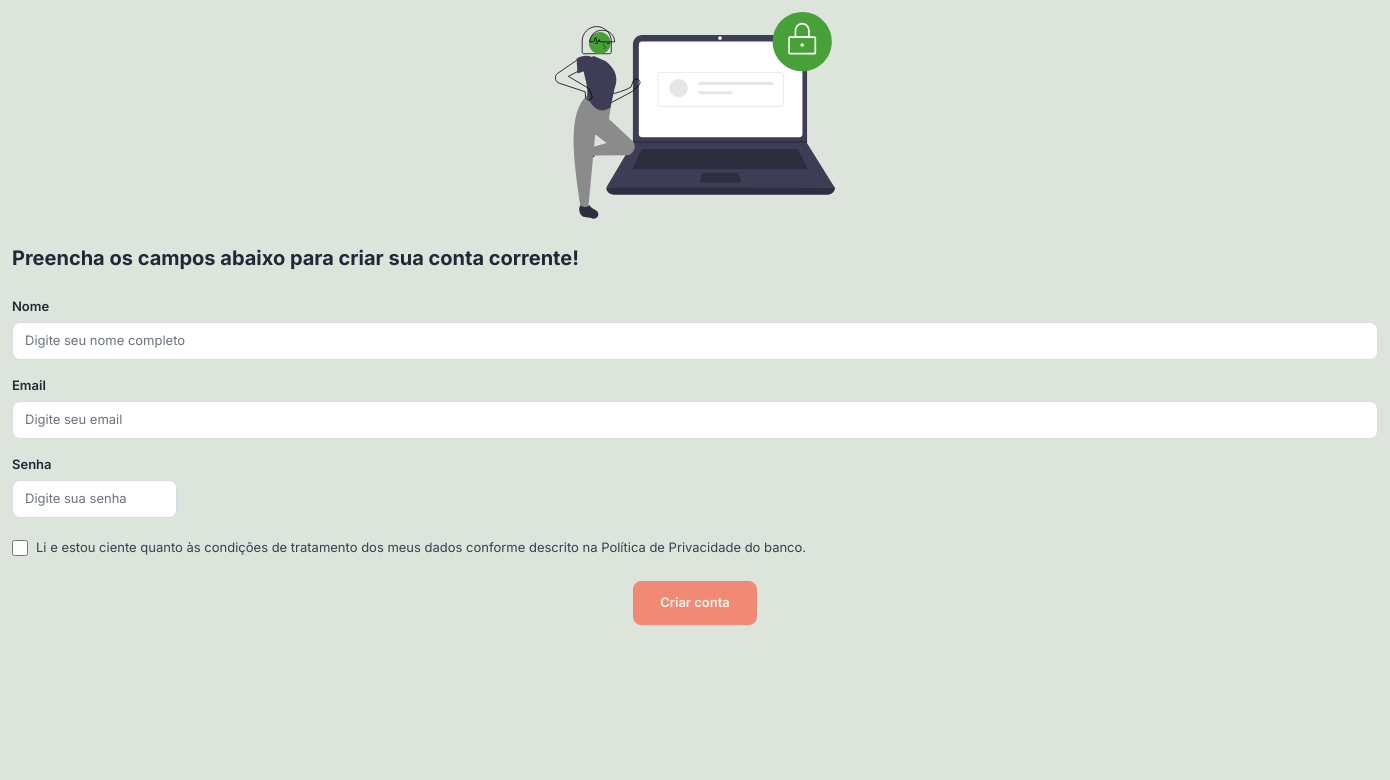
Test: RegisterForm › fecha alerta manualmente no botao x
Type "Maria Silva" into the field labelled "Nome" at [695, 341], box left=12, top=322, right=1378, bottom=360
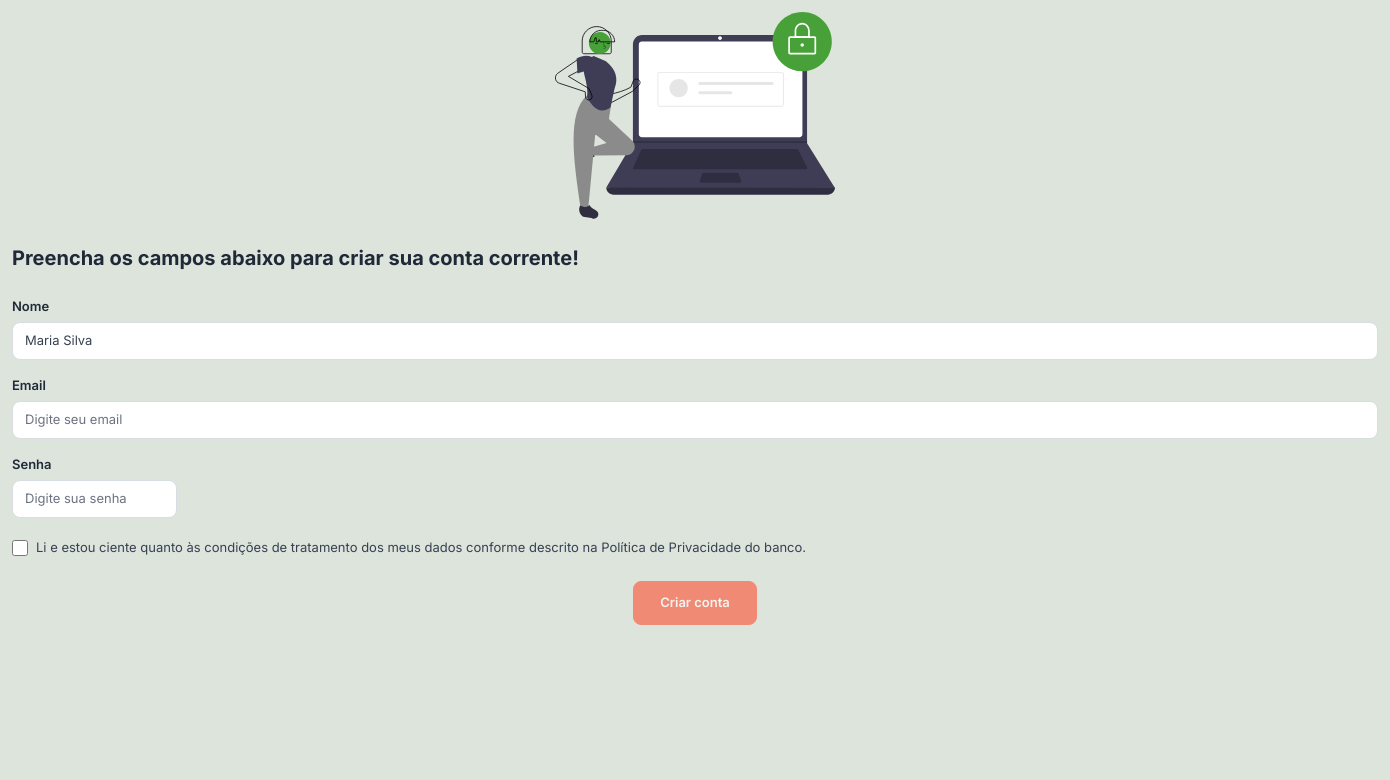
Type "maria@mail.com" into the field labelled "Email" at [695, 420], box left=12, top=401, right=1378, bottom=439
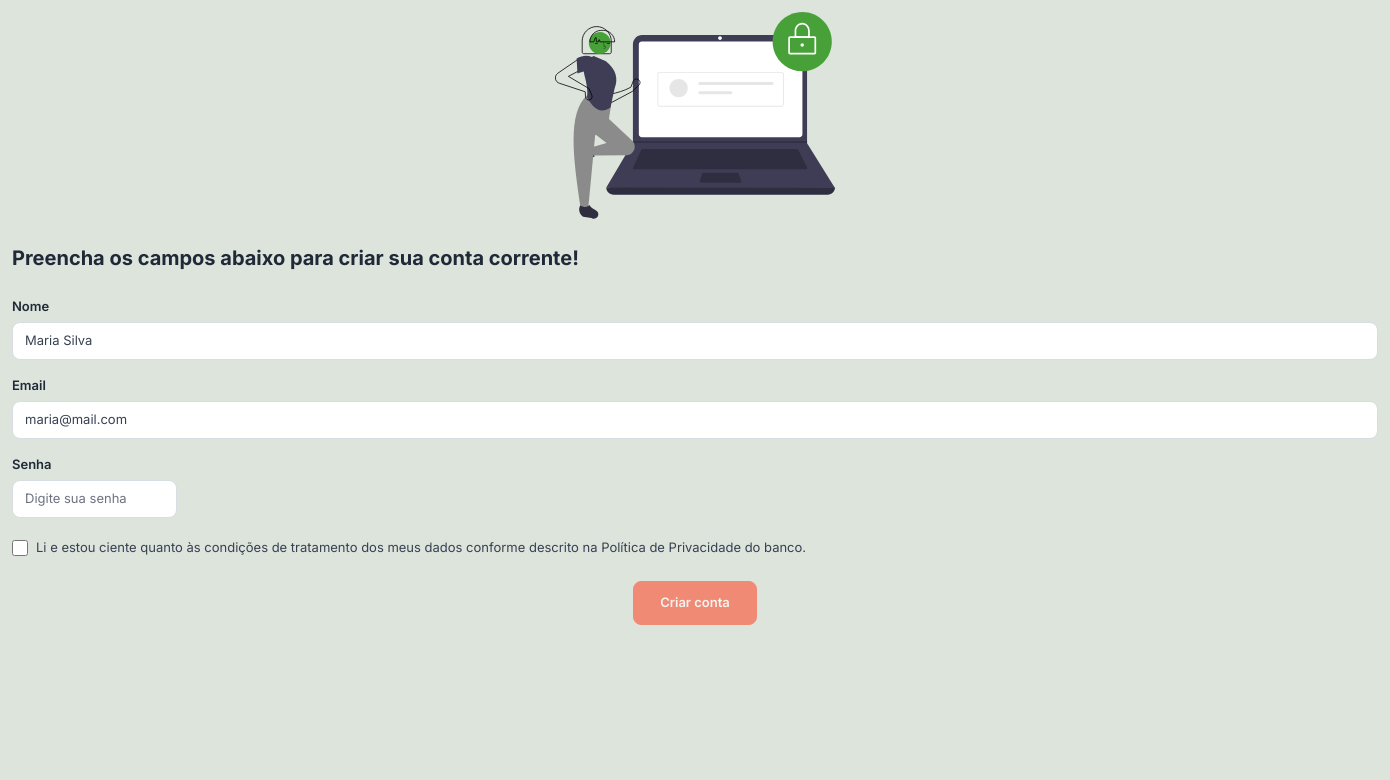
Type "12345678" into the password field labelled "Senha" at [94, 499], box left=12, top=480, right=177, bottom=518
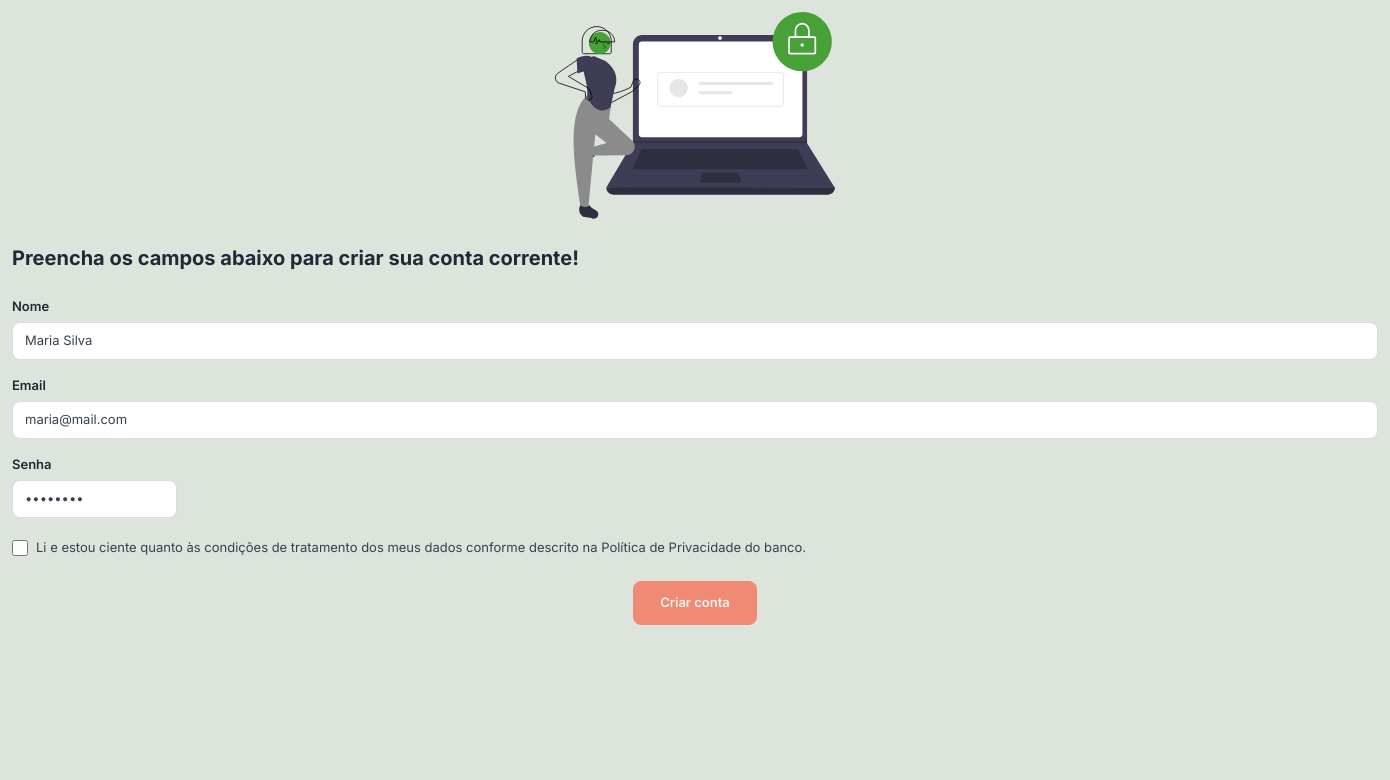
Click the checkbox at [20, 548], box left=12, top=540, right=28, bottom=556
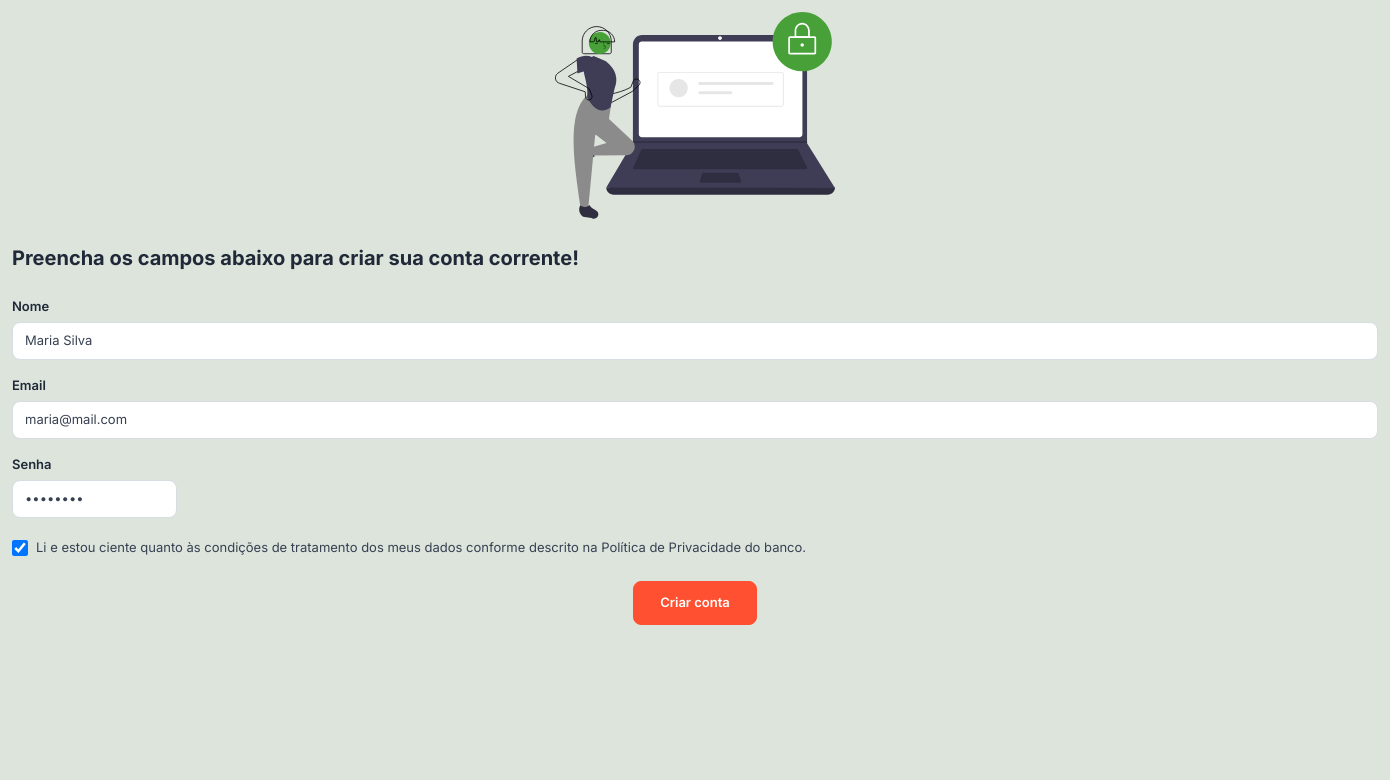
Click the button "Criar conta" at [695, 603], box left=633, top=581, right=757, bottom=625
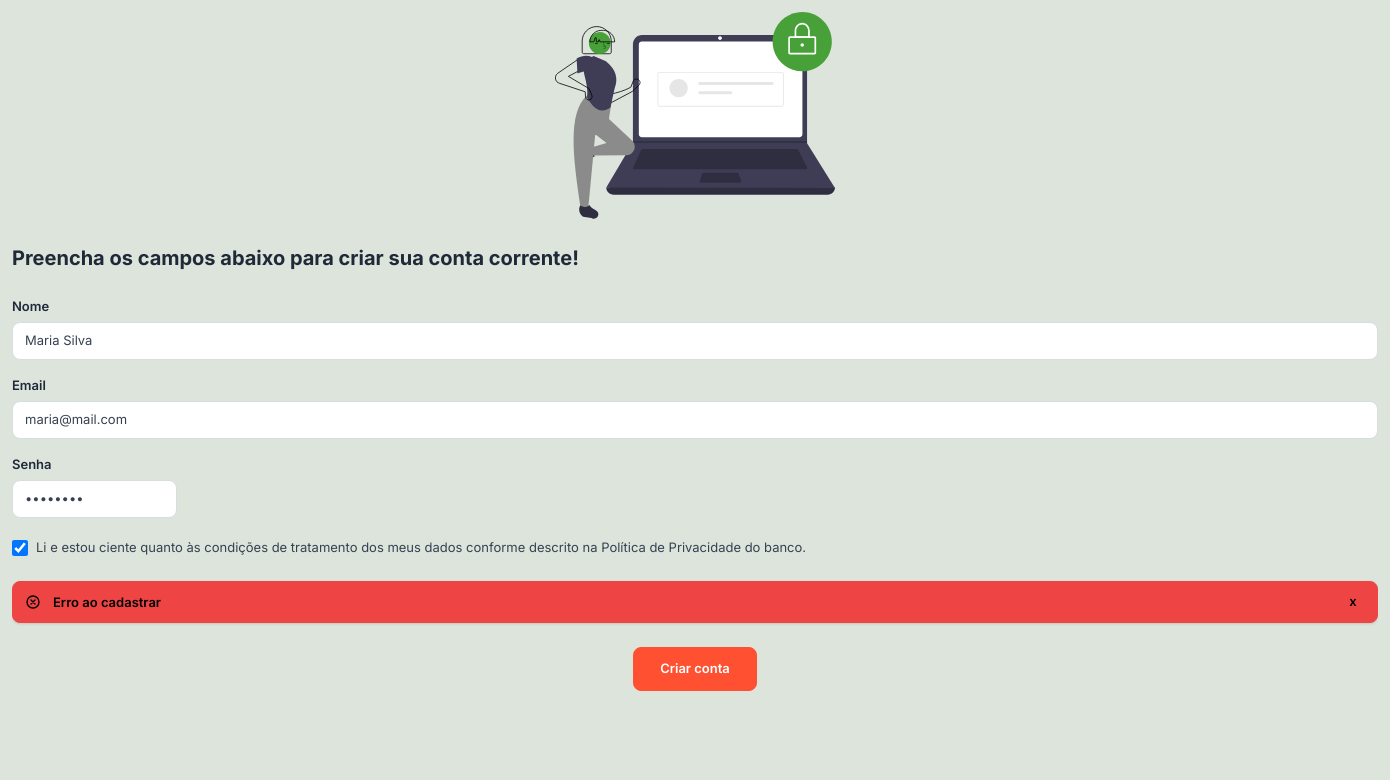
Now the message shows "Erro ao cadastrar", box left=53, top=594, right=161, bottom=610
Click the button named "fechar alerta" at [1353, 602], box left=1341, top=590, right=1365, bottom=614
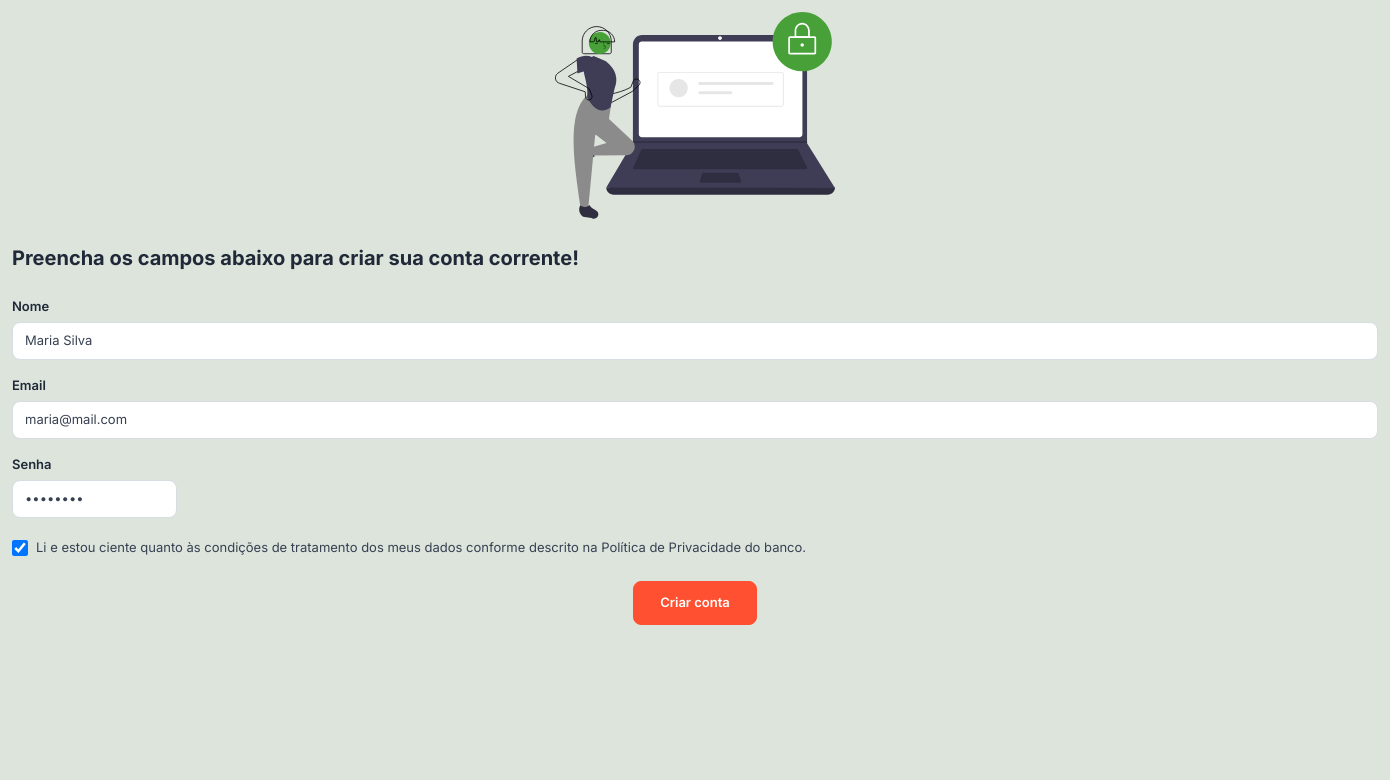
Now the message "Erro ao cadastrar x" is gone
